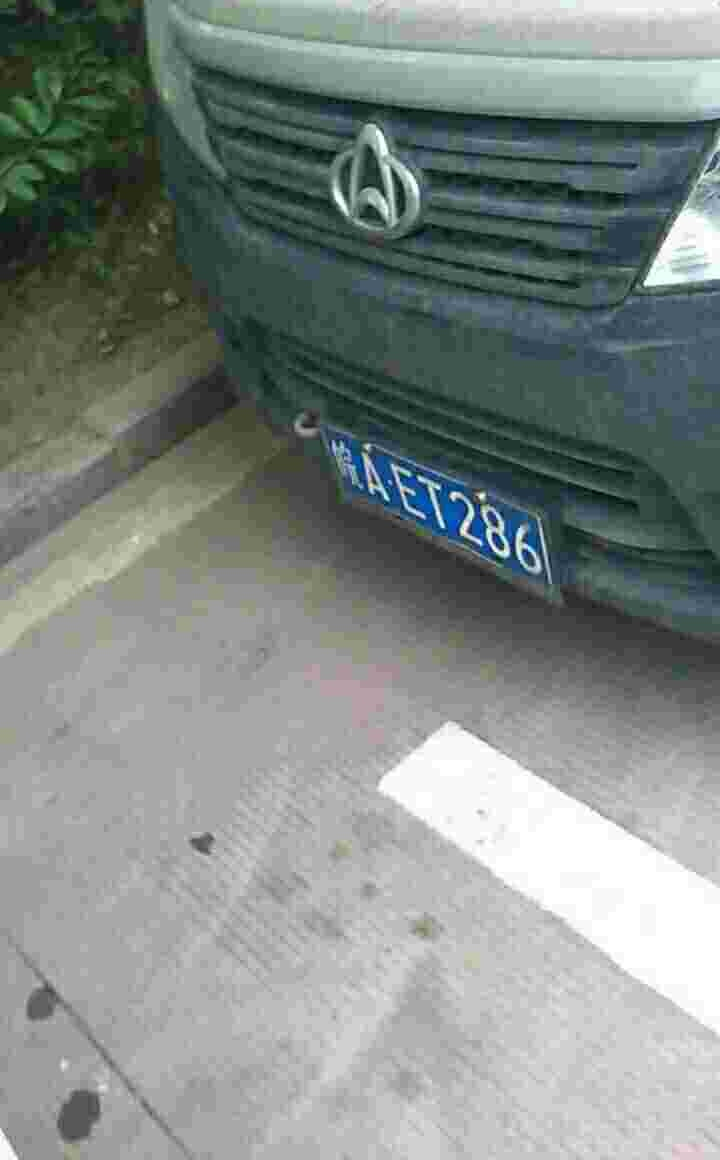license_plate: (329, 433, 560, 580)
